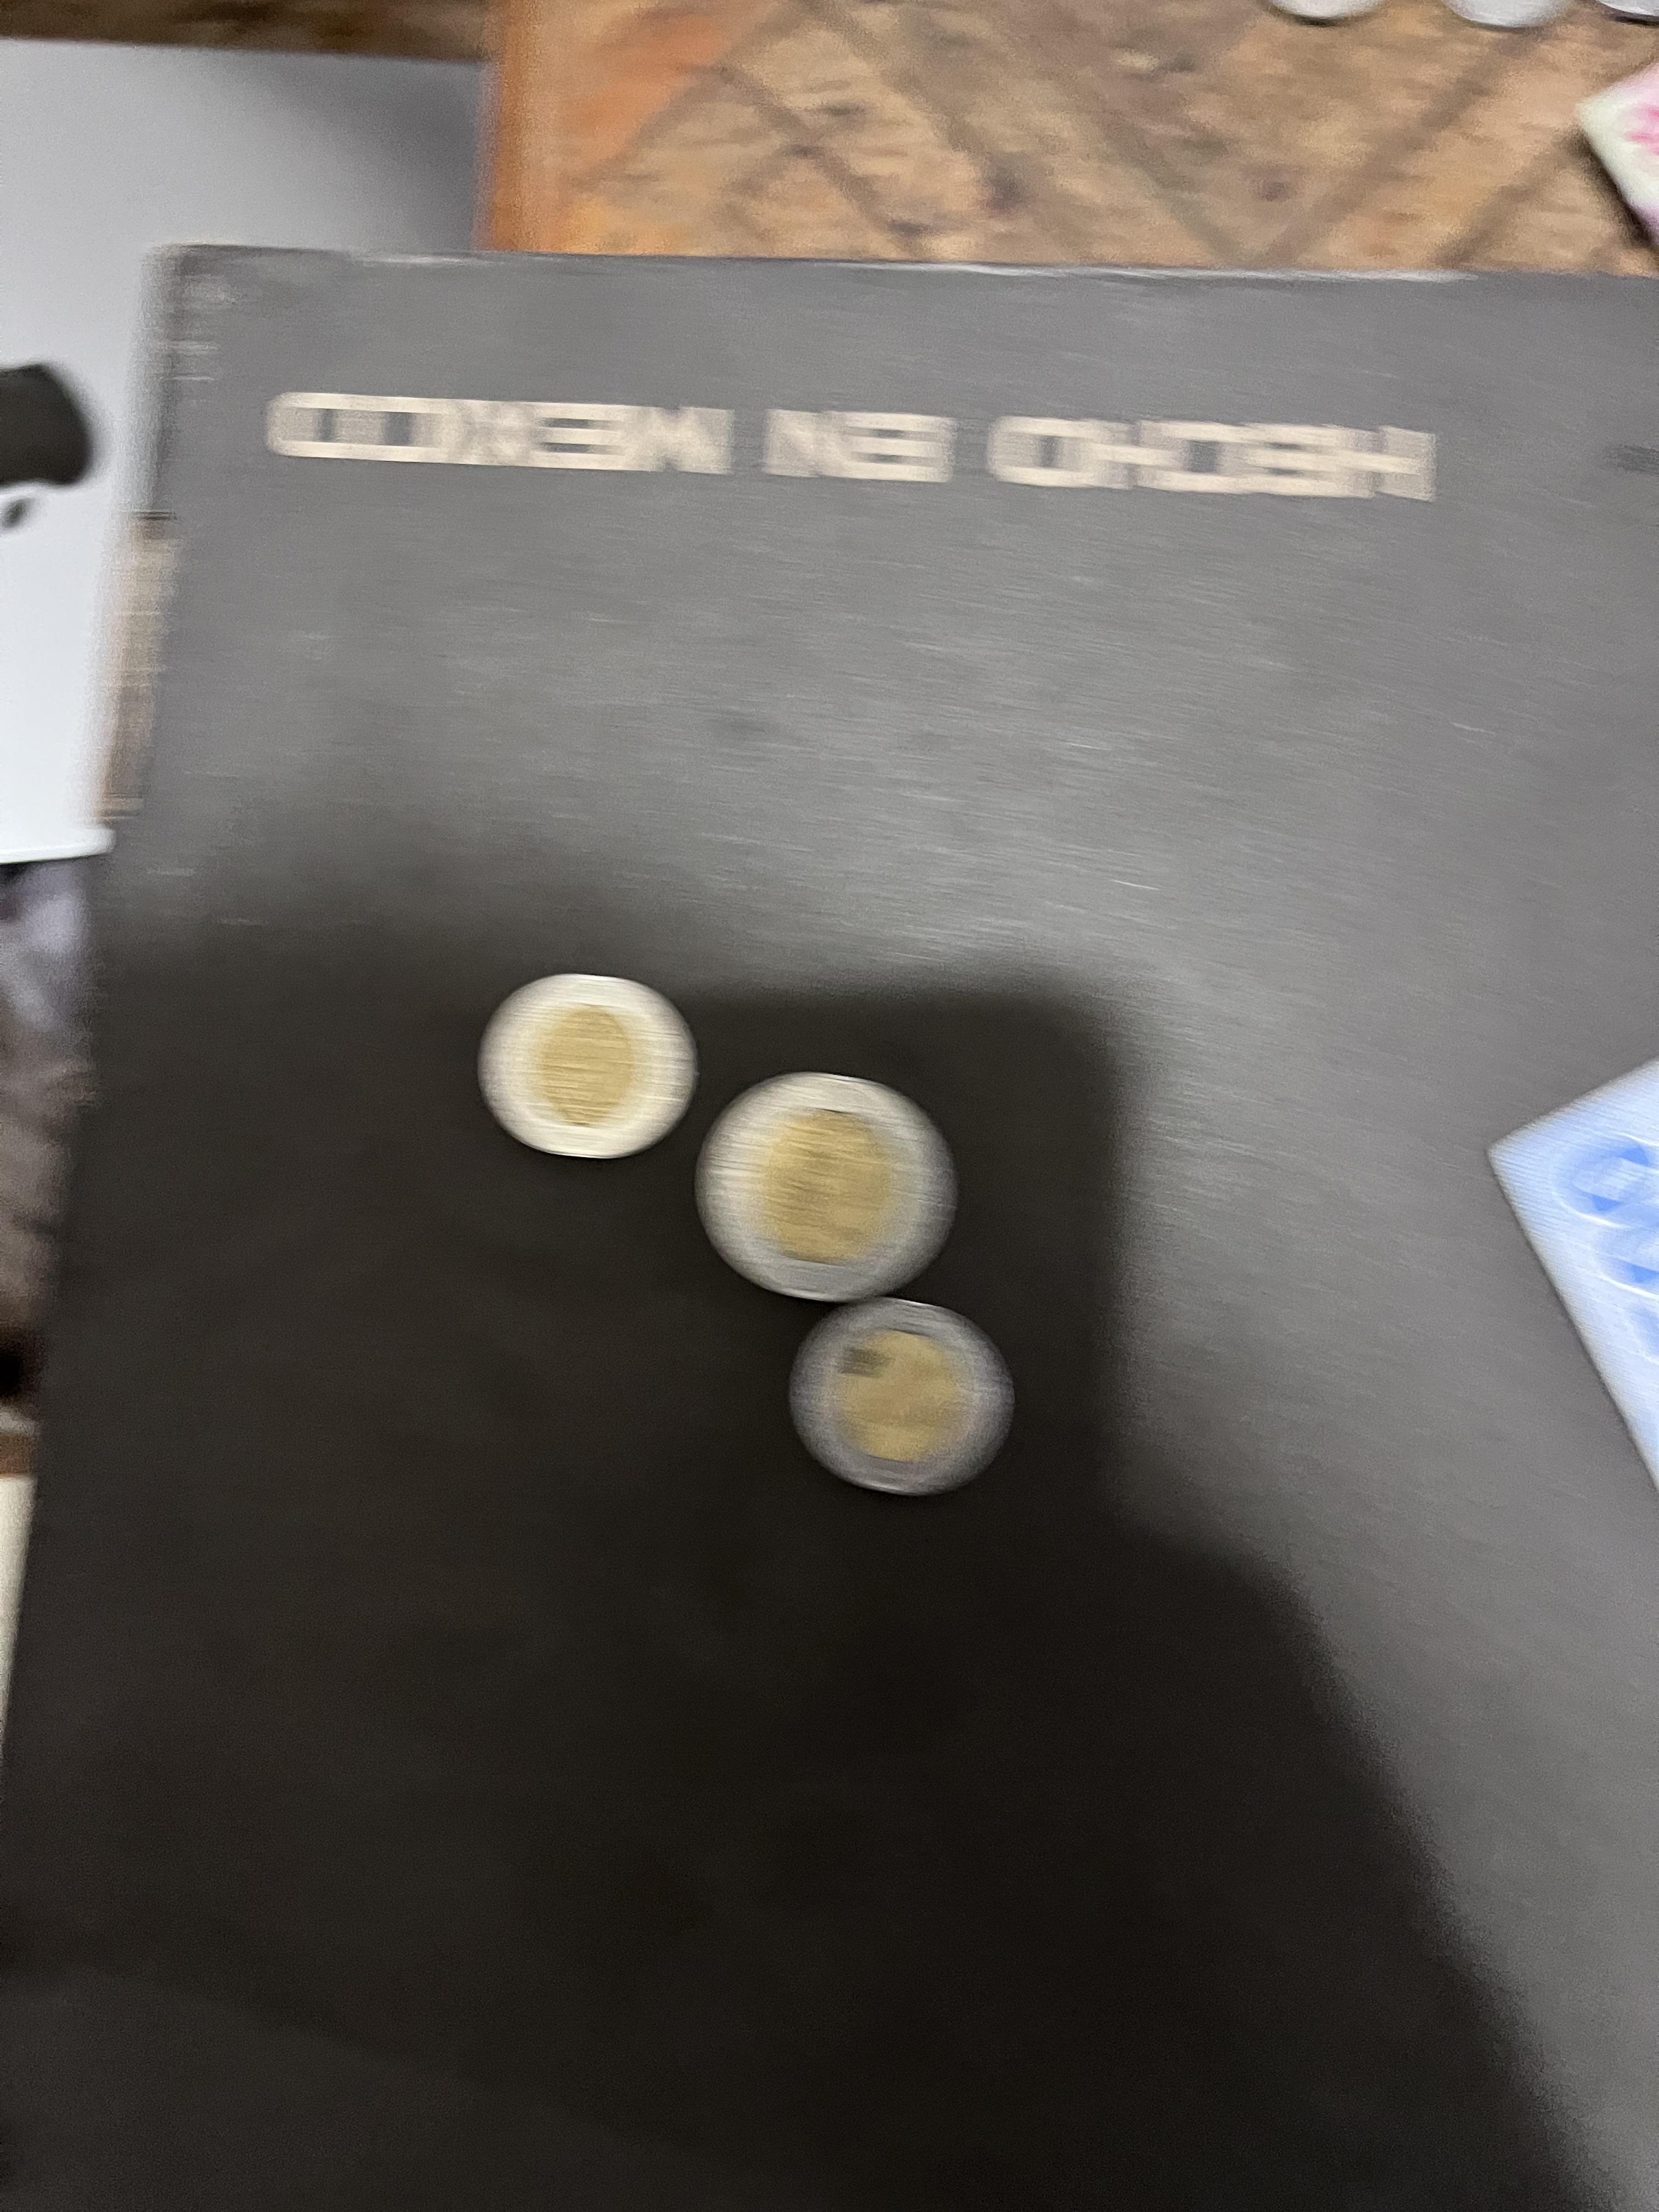1: (738, 1283, 1045, 1520), (452, 946, 716, 1187)
5: (682, 1078, 1012, 1296)
500 nuevo: (1454, 998, 1659, 1510)
